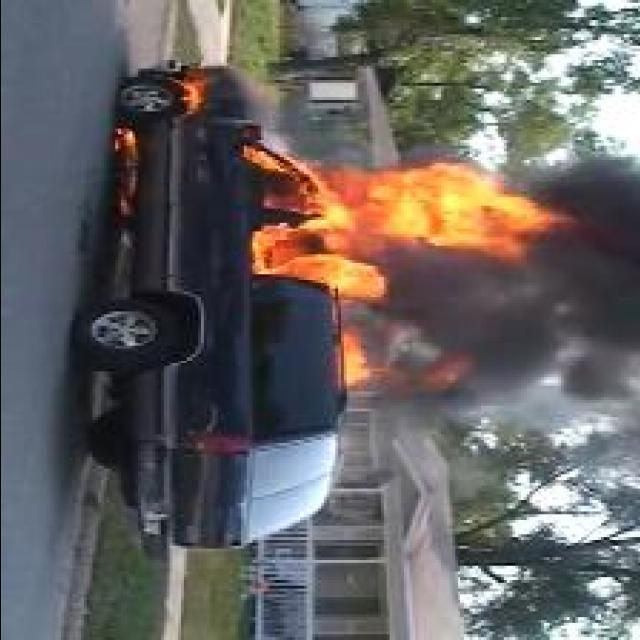Fire: (244, 146, 576, 300), (342, 327, 388, 387), (173, 76, 210, 113)
